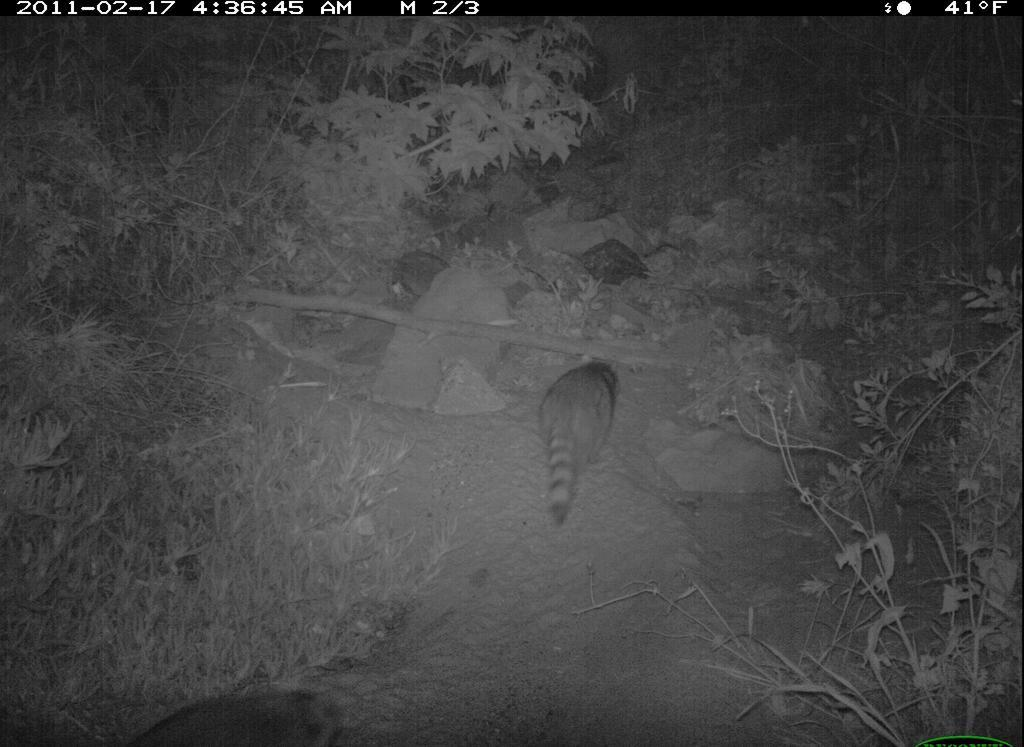raccoon: (532, 344, 624, 532)
